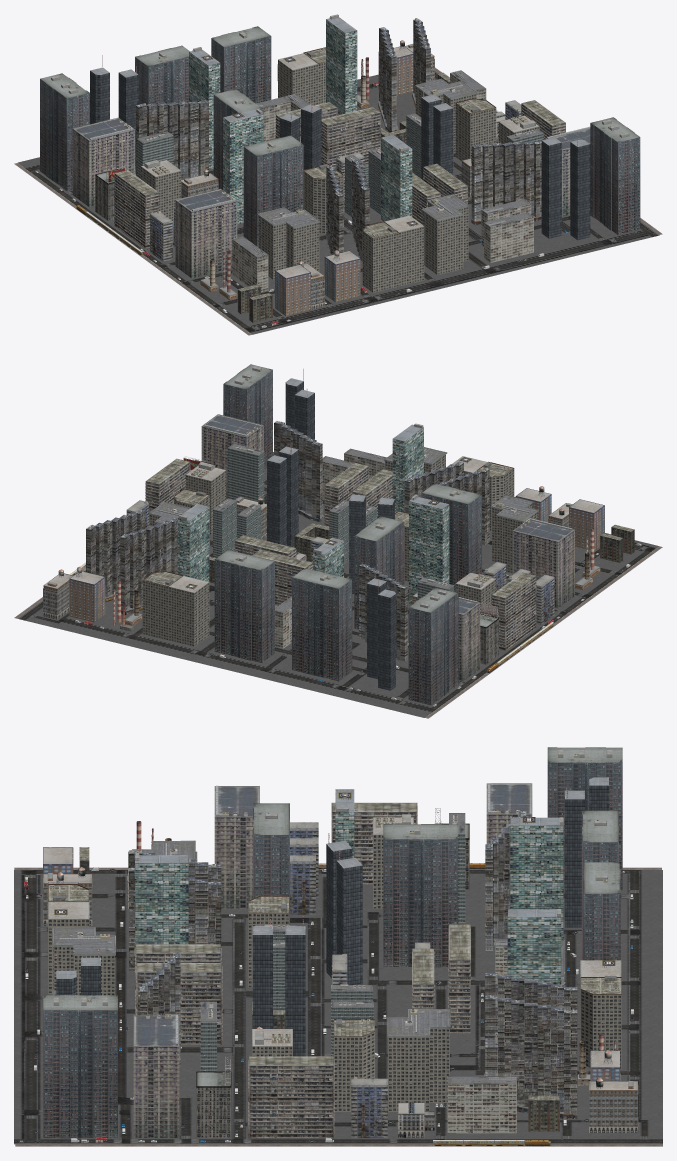
Rendered from city-resized.glb.
The picture shows the model from 3 angles, top to bottom: view 1: azimuth 30°, elevation 25°; view 2: azimuth 150°, elevation 25°; view 3: azimuth 270°, elevation 25°; orthographic projection. The views are drawn at different scales.
Parts seen in each view (by area): view 1: Plane_504, Building2_8, Building2.005_447, Building12.002_173, Building3.002_463, Building2.003_272, Building12.005_400, Building3.001_278, Building2.002_209, building.018_337, building.012_219, Building1.001_200 (+50 smaller); view 2: Plane_504, Building2.002_209, Building2.004_430, Building2.003_272, Building3.002_463, Building1.002_265, Building12.001_99, Building2.005_447, Building2.001_205, Building2_8, building.007_165, Building12_104 (+45 smaller); view 3: Plane_504, Building2_8, Building2.001_205, Building12_104, Building5_51, building.001_97, Building3_14, Building1_1, Building1.003_425, Building3.002_463, Building2.003_272, Building10_132 (+49 smaller).
Boxes of the visible parts, bbox=[...] form: Plane_504: bbox=[18, 71, 659, 334]; Building2_8: bbox=[590, 117, 640, 234]; Building2.005_447: bbox=[243, 135, 303, 247]; Building12.002_173: bbox=[471, 140, 541, 220]; Building3.002_463: bbox=[175, 189, 237, 278]; Building2.003_272: bbox=[40, 73, 89, 190]; Building12.005_400: bbox=[136, 100, 208, 177]; Building3.001_278: bbox=[73, 117, 134, 207]; Building2.002_209: bbox=[211, 26, 271, 103]; building.018_337: bbox=[257, 207, 320, 279]; building.012_219: bbox=[421, 194, 469, 274]; Building1.001_200: bbox=[326, 17, 357, 115]; Plane_504: bbox=[18, 452, 658, 717]; Building2.002_209: bbox=[214, 549, 274, 662]; Building2.004_430: bbox=[292, 568, 352, 681]; Building2.003_272: bbox=[408, 587, 458, 705]; Building3.002_463: bbox=[512, 520, 574, 608]; Building1.002_265: bbox=[409, 497, 449, 605]; Building12.001_99: bbox=[120, 517, 177, 610]; Building2.005_447: bbox=[421, 483, 481, 592]; Building2.001_205: bbox=[354, 516, 404, 629]; Building2_8: bbox=[223, 364, 272, 468]; building.007_165: bbox=[168, 576, 209, 646]; Building12_104: bbox=[86, 509, 145, 597]; Plane_504: bbox=[14, 870, 662, 1144]; Building2_8: bbox=[43, 995, 117, 1138]; Building2.001_205: bbox=[383, 824, 458, 967]; Building12_104: bbox=[485, 996, 577, 1113]; Building5_51: bbox=[248, 1056, 334, 1138]; building.001_97: bbox=[387, 1009, 450, 1111]; Building3_14: bbox=[133, 1015, 179, 1137]; Building1_1: bbox=[510, 817, 563, 939]; Building1.003_425: bbox=[135, 855, 188, 1006]; Building3.002_463: bbox=[214, 786, 259, 908]; Building2.003_272: bbox=[547, 747, 622, 890]; Building10_132: bbox=[447, 1076, 516, 1133].
Size of the model in its own units: 407 by 104 by 400.
Materials: 6 (6 with a texture image).
